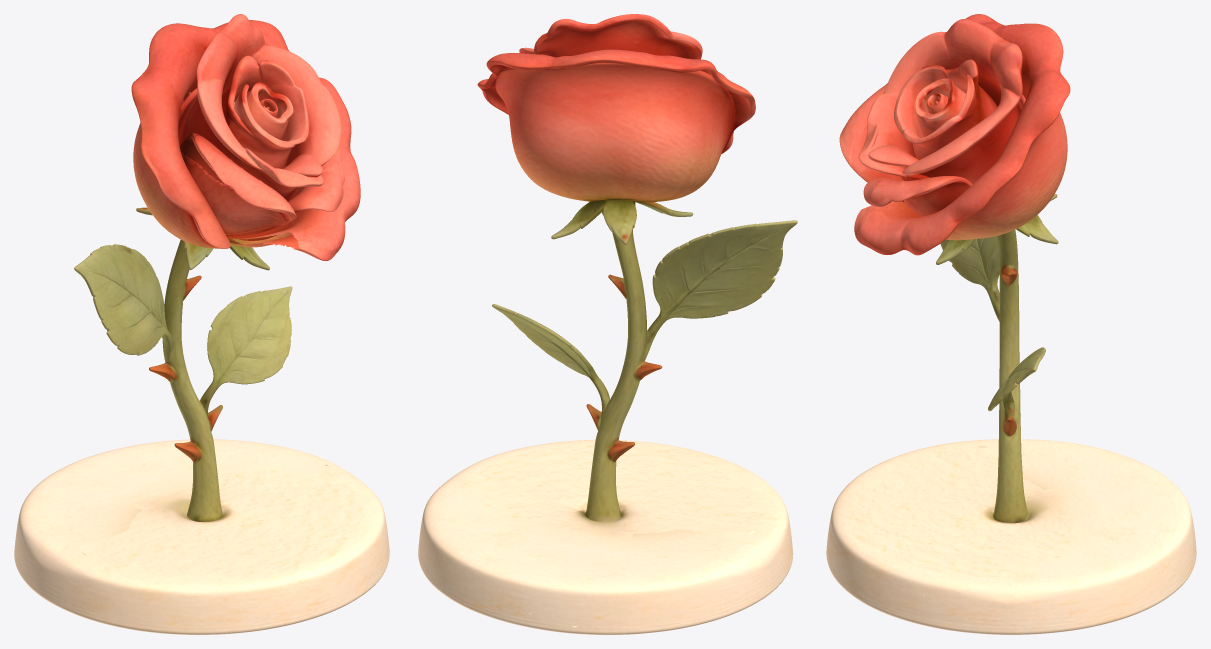
The model's file is rose-petal-split.glb.
The picture shows the model from 3 angles, left to right: view 1: azimuth 30°, elevation 25°; view 2: azimuth 150°, elevation 25°; view 3: azimuth 270°, elevation 25°; orthographic projection.
Visible parts, largest first — view 1: RoseBody, RosePetal; view 2: RoseBody; view 3: RoseBody, RosePetal.
Boxes of the visible parts, bbox=[...] form: RoseBody: bbox=[14, 14, 389, 634]; RosePetal: bbox=[181, 135, 296, 234]; RoseBody: bbox=[418, 14, 797, 634]; RoseBody: bbox=[826, 14, 1196, 634]; RosePetal: bbox=[839, 83, 903, 201].
Bounding box in the file's own units: 0.6368 × 1 × 0.6281.
1 material, 1 textured.
